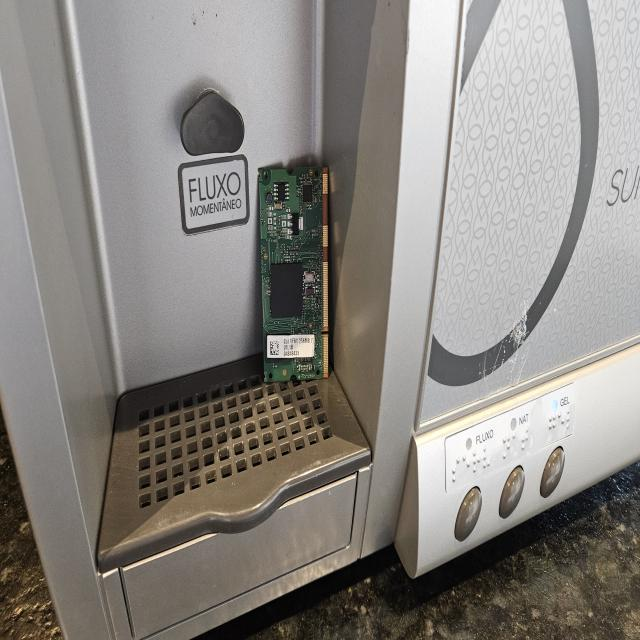som: (249, 162, 335, 384)
